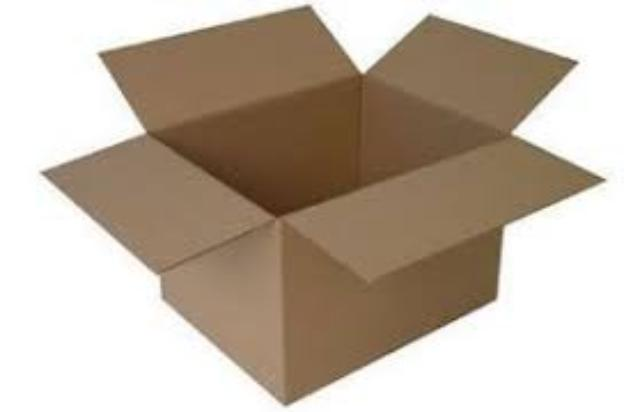cardboard paper: (44, 5, 596, 399)
